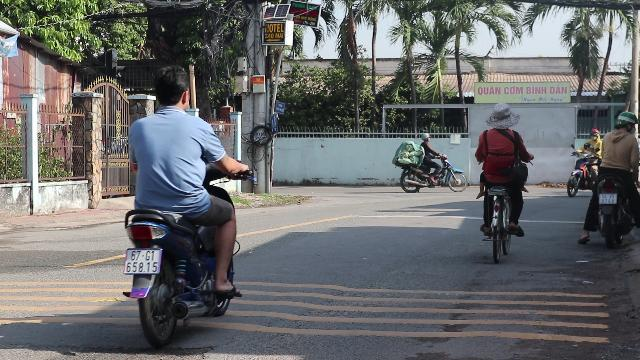helmet: (612, 111, 636, 133)
licenseplate: (124, 248, 160, 272), (600, 193, 616, 203)
motorcyclist: (114, 66, 246, 346), (582, 110, 640, 246)
nohelmet: (150, 66, 192, 114)
